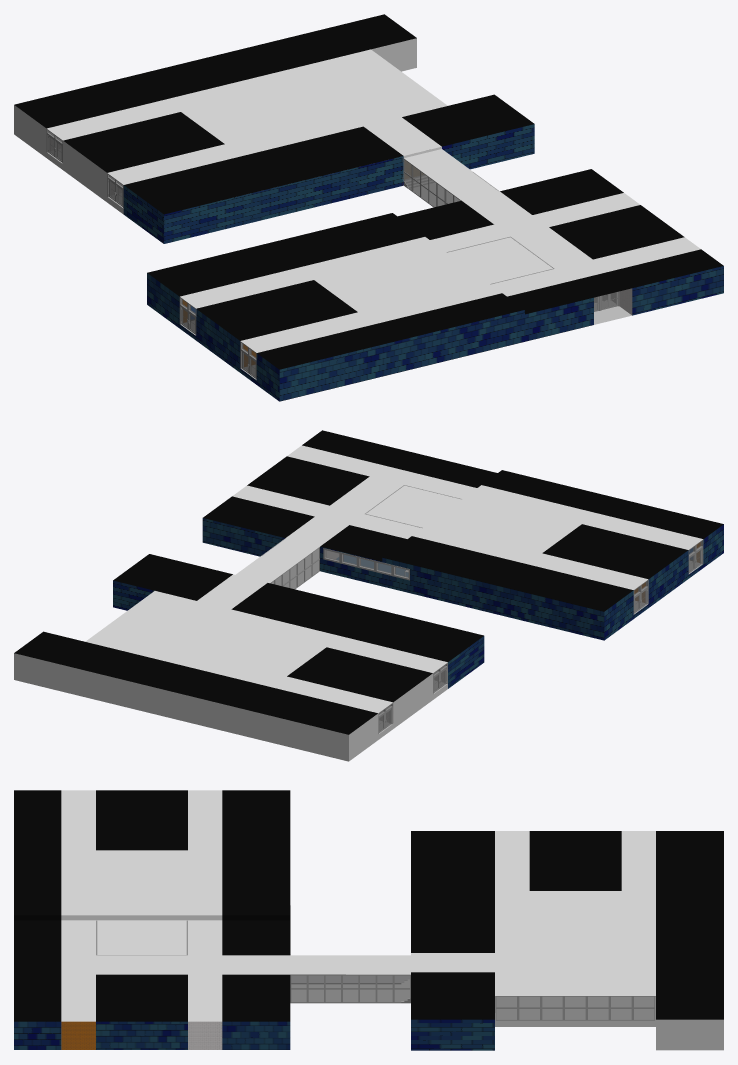
File: school_modify_addedd1.gltf
The picture shows the model from 3 angles, top to bottom: view 1: azimuth 30°, elevation 25°; view 2: azimuth 150°, elevation 25°; view 3: azimuth 270°, elevation 25°; orthographic projection. The views are drawn at different scales.
Visible parts, largest first — view 1: school, school2, school.middle; view 2: school, school2, school.middle; view 3: school, school2, school.middle.
Boxes of the visible parts, x1,y1,x2,y2 form: school: (147, 147, 723, 401); school2: (14, 14, 447, 214); school.middle: (123, 94, 534, 243); school: (202, 430, 723, 640); school2: (14, 591, 447, 761); school.middle: (113, 554, 484, 688); school: (14, 790, 410, 1049); school2: (495, 831, 723, 1050); school.middle: (411, 831, 494, 1050).
Size of the model in its own units: 11.51 by 0.7889 by 15.22.
